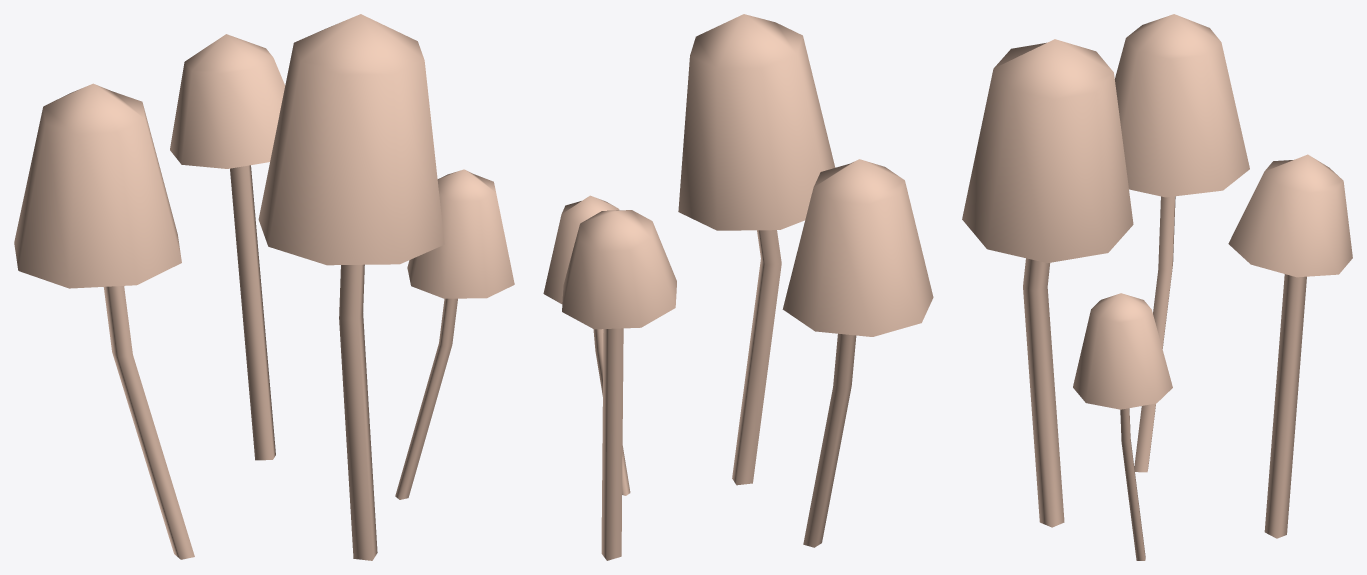
The model's file is mushroom1.fbx.
3 views of the same model, side by side, from view 1: azimuth 30°, elevation 25°; view 2: azimuth 150°, elevation 25°; view 3: azimuth 270°, elevation 25° (orthographic). The views are drawn at different scales.
Parts seen in each view (by area): view 1: Mushroom_b_04; view 2: Mushroom_b_04; view 3: Mushroom_b_04.
Boxes of the visible parts, x1=… form: Mushroom_b_04: x1=14, y1=14, x2=514, y2=560; Mushroom_b_04: x1=543, y1=14, x2=933, y2=560; Mushroom_b_04: x1=962, y1=14, x2=1352, y2=560.
Bounding box in the file's own units: 27.4 × 33.23 × 37.57.
Materials: 1 (1 with a texture image).
